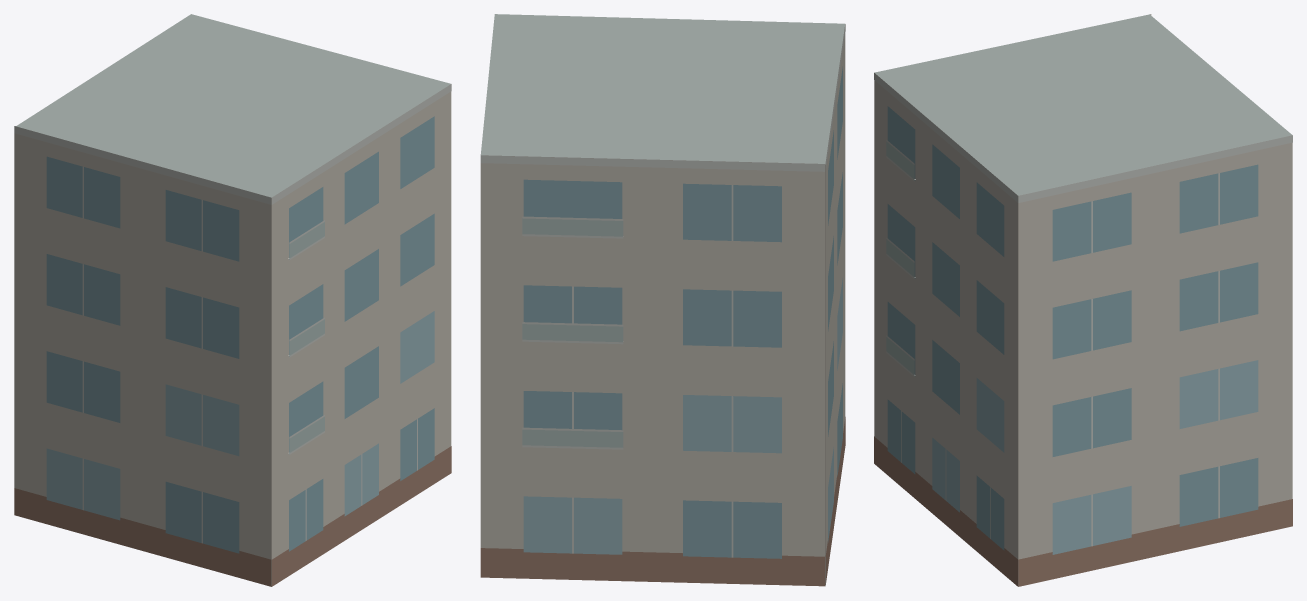
The model's file is survey-upis-33002244.glb.
The picture shows the model from 3 angles, left to right: view 1: azimuth 30°, elevation 25°; view 2: azimuth 150°, elevation 25°; view 3: azimuth 270°, elevation 25°; orthographic projection. The views are drawn at different scales.
Visible parts, largest first — view 1: survey-upis-33002244.tmp; view 2: survey-upis-33002244.tmp; view 3: survey-upis-33002244.tmp.
Part boxes in pixels (x1,y1,x2,y2): survey-upis-33002244.tmp: (14,14,451,586); survey-upis-33002244.tmp: (480,14,845,586); survey-upis-33002244.tmp: (874,14,1292,586).
Size of the model in its own units: 12.99 by 13.02 by 12.64.
